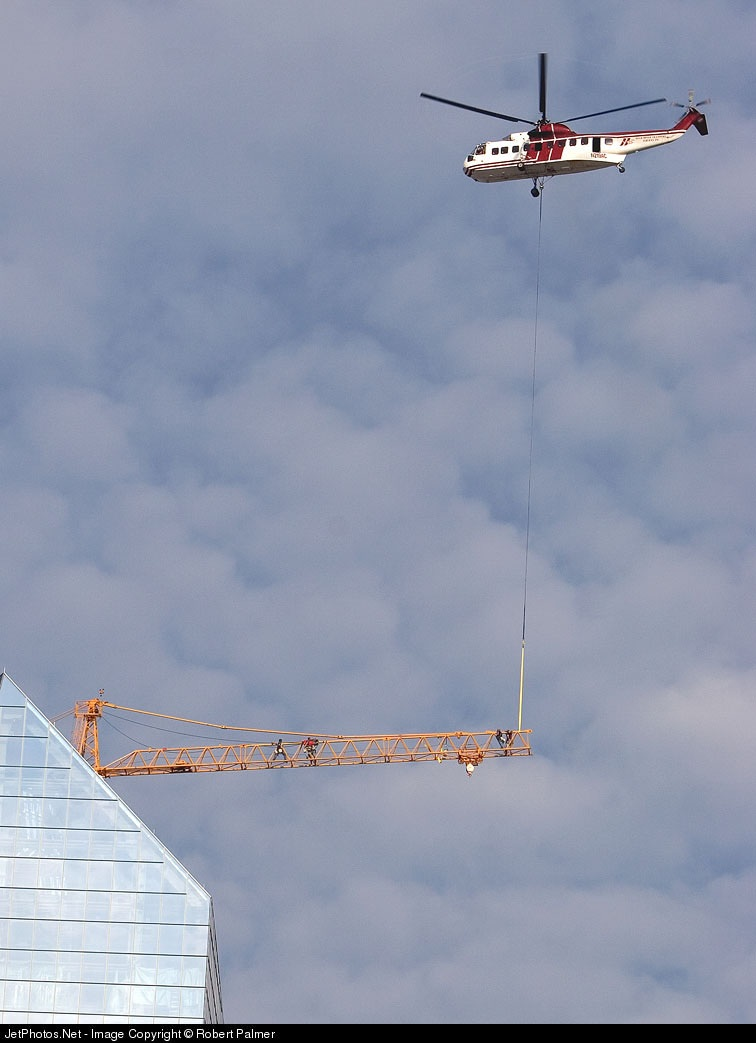number: (588, 151, 612, 159)
